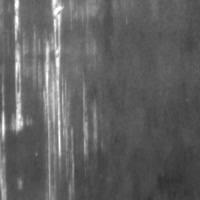scratches: (41, 1, 73, 183), (9, 1, 32, 135)
